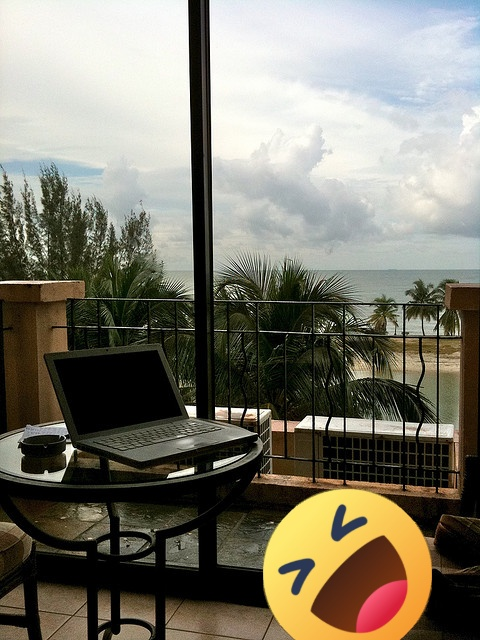haha: (263, 489, 432, 640)
